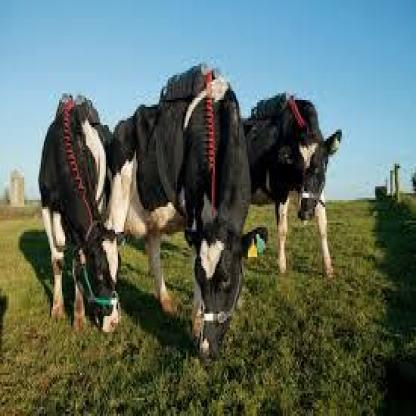cow: (110, 62, 271, 360), (39, 90, 124, 335), (240, 92, 343, 281)
